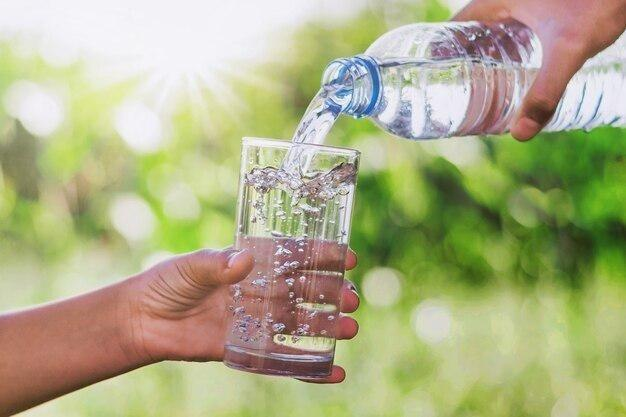bottle-plastic: (286, 12, 626, 144)
glass-normal: (221, 135, 362, 380)
